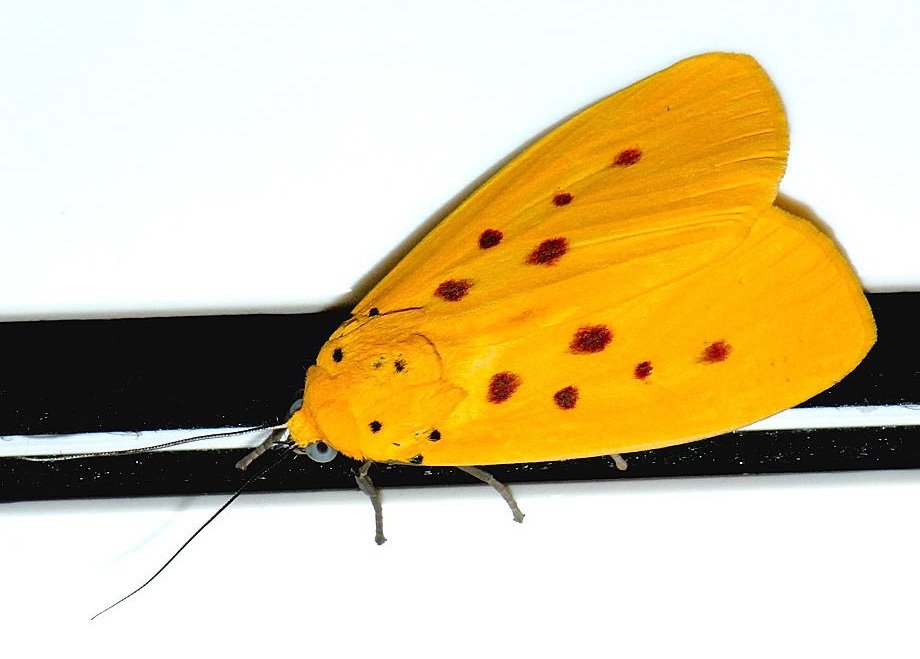Agape chloropyga: (20, 42, 888, 621)
moth: (22, 44, 890, 623)
